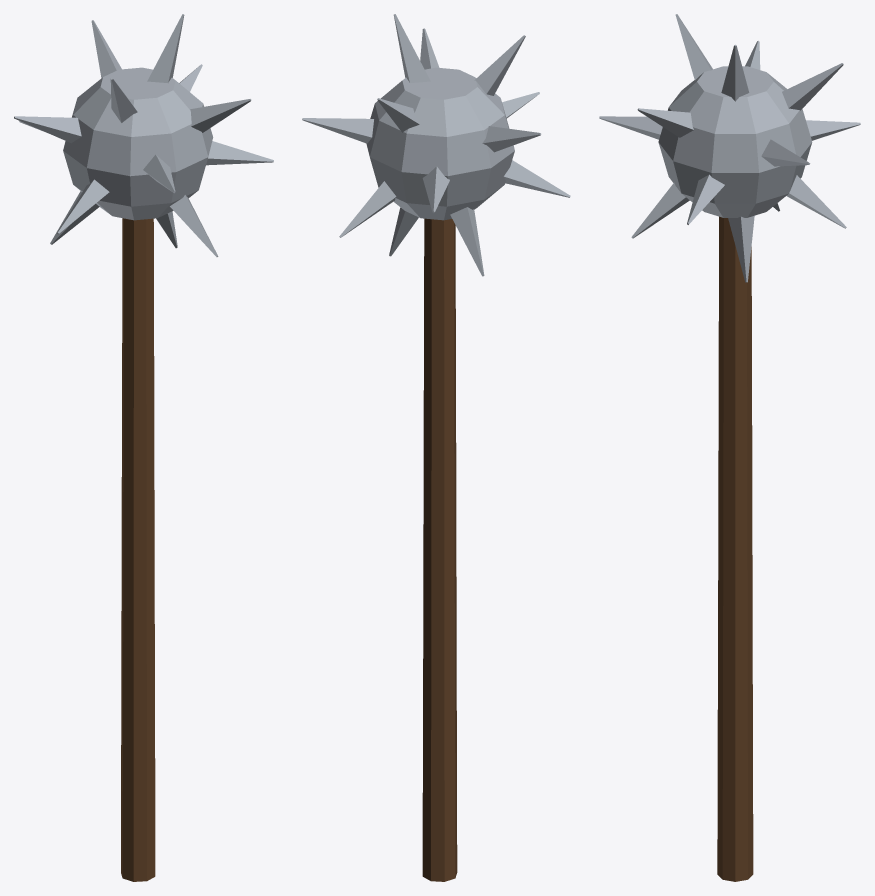
File: g-morningstar.glb
3 views of the same model, side by side, from view 1: azimuth 30°, elevation 25°; view 2: azimuth 150°, elevation 25°; view 3: azimuth 270°, elevation 25° (orthographic).
Parts seen in each view (by area): view 1: g-morningstar; view 2: g-morningstar; view 3: g-morningstar.
Boxes of the visible parts, <box> form: g-morningstar: <box>14,14,273,881</box>; g-morningstar: <box>302,14,570,881</box>; g-morningstar: <box>599,14,860,881</box>.
Bounding box in the file's own units: 0.2028 × 0.7325 × 0.2041.
